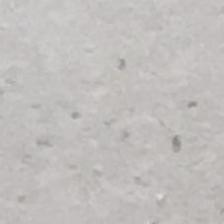Non_Crack: (18, 7, 188, 208)
